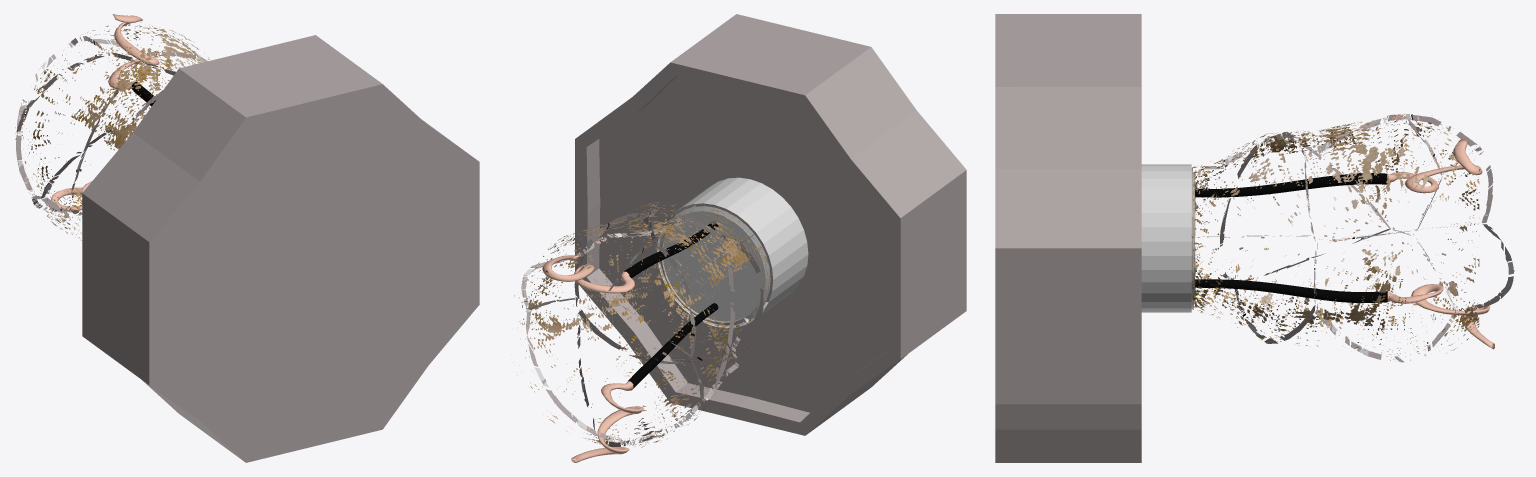
File: Lightbulb_broken.fbx
3 renders of one model, left to right at view 1: azimuth 30°, elevation 25°; view 2: azimuth 150°, elevation 25°; view 3: azimuth 270°, elevation 25°, orthographic. The views are drawn at different scales.
Visible parts, largest first — view 1: LightBulb_model.004, LightBulb_model.003_cell.008, LightBulb_model.003_cell, LightBulb_model.003_cell.001, LightBulb_model.003_cell.006, LightBulb_model.003_cell.005; view 2: LightBulb_model.004, LightBulb_model.003_cell.007, LightBulb_model.003_cell.008, LightBulb_model.003_cell.004, LightBulb_model.003_cell.002, LightBulb_model.003_cell, LightBulb_model.003_cell.003, LightBulb_model.003_cell.001, LightBulb_model.003_cell.006, LightBulb_model.003_cell.005, LightBulb_model.003_cell.009; view 3: LightBulb_model.004, LightBulb_model.003_cell, LightBulb_model.003_cell.004, LightBulb_model.003_cell.007, LightBulb_model.003_cell.002, LightBulb_model.003_cell.003, LightBulb_model.003_cell.008, LightBulb_model.003_cell.001, LightBulb_model.003_cell.006, LightBulb_model.003_cell.009.
Part boxes in pixels (left/top/right/bottom): LightBulb_model.004: left=51, top=14, right=479, bottom=462; LightBulb_model.003_cell.008: left=16, top=52, right=174, bottom=198; LightBulb_model.003_cell: left=70, top=22, right=210, bottom=73; LightBulb_model.003_cell.001: left=42, top=118, right=136, bottom=220; LightBulb_model.003_cell.006: left=15, top=39, right=119, bottom=210; LightBulb_model.003_cell.005: left=16, top=36, right=103, bottom=130; LightBulb_model.004: left=542, top=14, right=966, bottom=462; LightBulb_model.003_cell.007: left=574, top=228, right=748, bottom=362; LightBulb_model.003_cell.008: left=643, top=212, right=734, bottom=400; LightBulb_model.003_cell.004: left=514, top=256, right=625, bottom=446; LightBulb_model.003_cell.002: left=578, top=310, right=736, bottom=447; LightBulb_model.003_cell: left=522, top=213, right=654, bottom=308; LightBulb_model.003_cell.003: left=585, top=202, right=753, bottom=249; LightBulb_model.003_cell.001: left=716, top=236, right=763, bottom=388; LightBulb_model.003_cell.006: left=526, top=296, right=703, bottom=444; LightBulb_model.003_cell.005: left=608, top=241, right=695, bottom=356; LightBulb_model.003_cell.009: left=737, top=234, right=770, bottom=339; LightBulb_model.004: left=995, top=14, right=1494, bottom=462; LightBulb_model.003_cell: left=1306, top=114, right=1492, bottom=239; LightBulb_model.003_cell.004: left=1315, top=224, right=1513, bottom=360; LightBulb_model.003_cell.007: left=1191, top=236, right=1315, bottom=343; LightBulb_model.003_cell.002: left=1234, top=229, right=1455, bottom=362; LightBulb_model.003_cell.003: left=1191, top=132, right=1312, bottom=236; LightBulb_model.003_cell.008: left=1284, top=114, right=1442, bottom=234; LightBulb_model.003_cell.001: left=1221, top=134, right=1388, bottom=280; LightBulb_model.003_cell.006: left=1416, top=151, right=1514, bottom=310; LightBulb_model.003_cell.009: left=1192, top=145, right=1257, bottom=275.
Size of the model in its own units: 0.7458 by 0.7458 by 0.9455.
